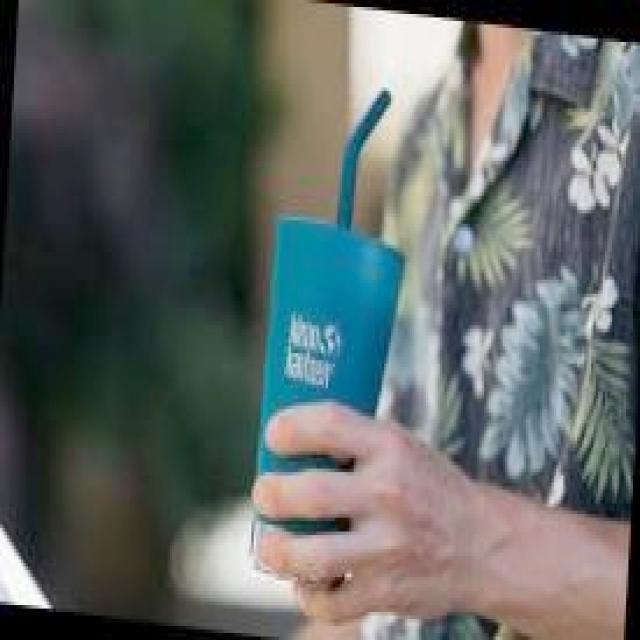bottle: (250, 72, 413, 592)
